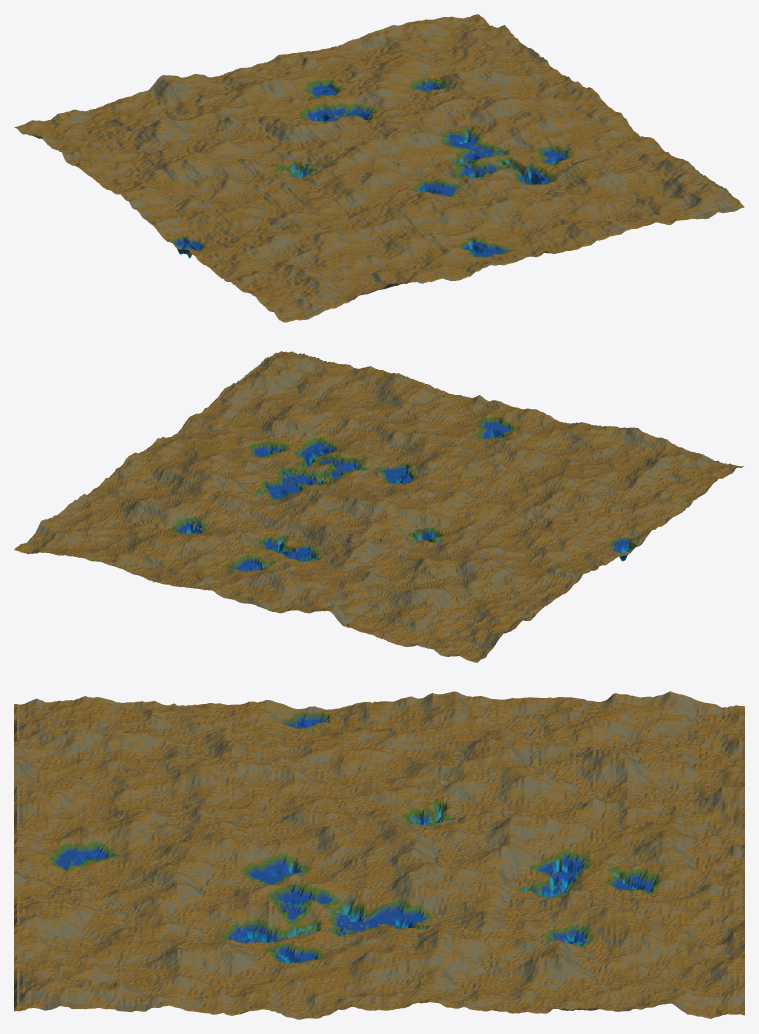
Rendered from terrain_RIVER.obj.
3 renders of one model, top to bottom at view 1: azimuth 30°, elevation 25°; view 2: azimuth 150°, elevation 25°; view 3: azimuth 270°, elevation 25°, orthographic. The views are drawn at different scales.
Visible parts, largest first — view 1: RIVER; view 2: RIVER; view 3: RIVER.
Boxes of the visible parts, box(x1,y1,x2,y2) form: RIVER: box(14, 14, 744, 322); RIVER: box(14, 351, 743, 662); RIVER: box(14, 691, 744, 1019).
Bounding box in the file's own units: 255 × 22.79 × 255.
Materials: 1 (1 with a texture image).
